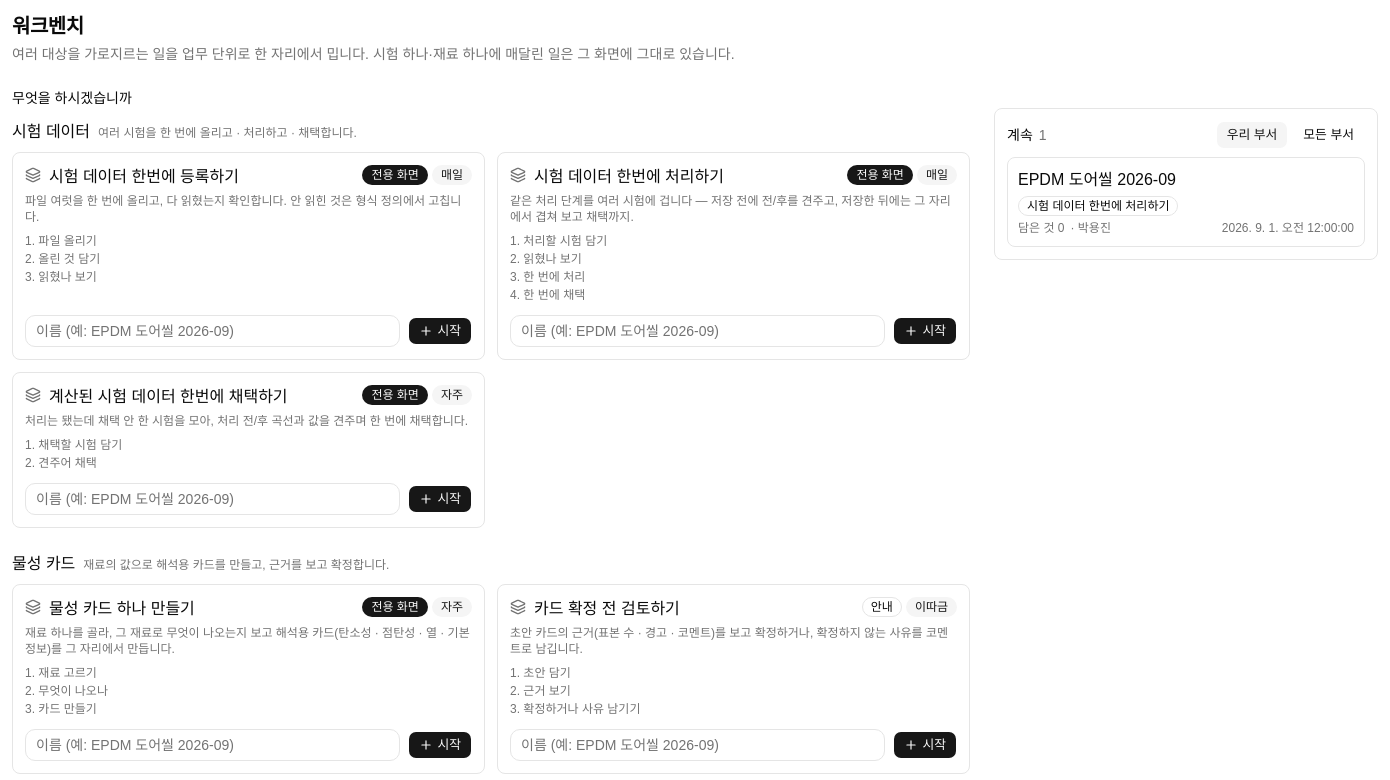
Test: 남은 일을 말한다 › 안 읽힌 시험의 이름을 대고 그 시험으로 데려간다
Click the text "EPDM 도어씰 2026-09". click: (1097, 180)
box: 1018,171 -> 1176,188
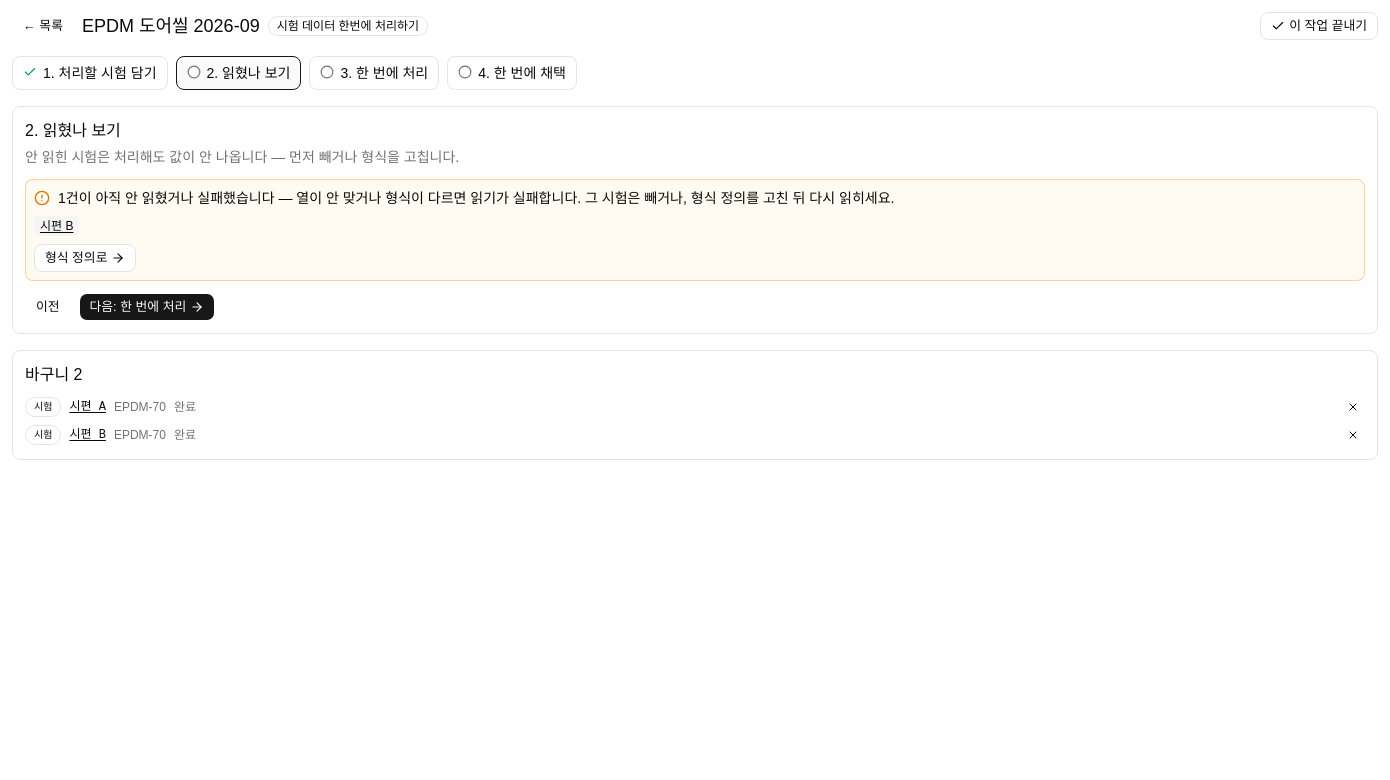
Expected: the list named "단계" is shown, 12,56 -> 577,90
Now the text "1건이 아직 안 읽혔거나 실패했습니다" is shown, box 58,190 -> 894,206
